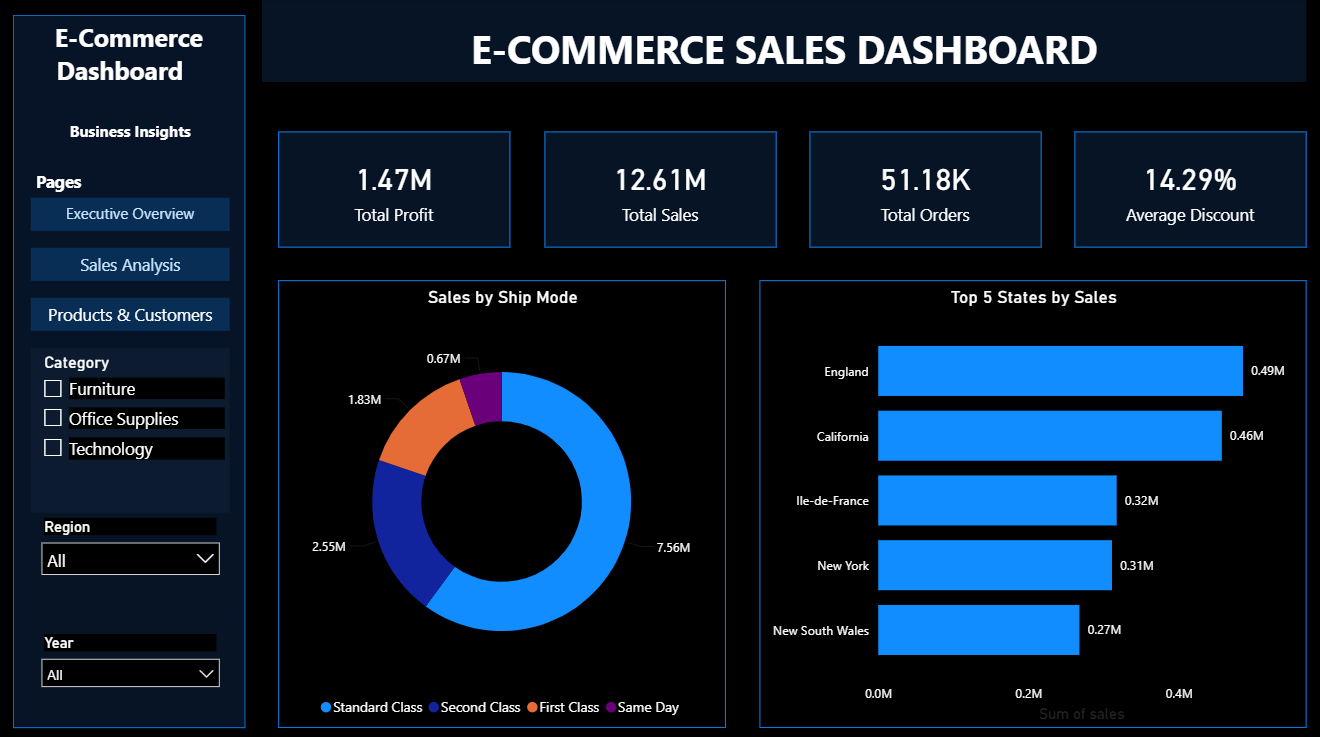

The page's visual inventory and layout, read from the dashboard file:
{"tool":"powerbi","page":{"name":"Executive Overview","canvas":[1280,720],"ordinal":0},"visuals":[{"type":"card","title":"Total Sales","fields":{"Values":["Sum(sales_data.sales)"]},"box":[528,128,224,112],"z":0},{"type":"card","title":"Total Profit","fields":{"Values":["Sum(sales_data.profit)"]},"box":[272,128,224,112],"z":1000},{"type":"card","title":"Total Orders","fields":{"Values":["CountNonNull(sales_data.order_id)"]},"box":[784,128,224,112],"z":2000},{"type":"card","title":"Average Discount","fields":{"Values":["Avg(sales_data.discount)"]},"box":[1040,128,224,112],"z":3000},{"type":"actionButton","box":[20,20,100,40],"z":4000},{"type":"shape","box":[16,16,224,688],"z":5000},{"type":"textbox","box":[32,16,192,96],"z":6000},{"type":"textbox","box":[32,112,192,32],"z":7000},{"type":"textbox","box":[32,160,192,32],"z":8000},{"type":"textbox","box":[32,192,192,32],"z":9000},{"type":"textbox","box":[32,240,192,32],"z":10000},{"type":"textbox","box":[32,288,192,32],"z":11000},{"type":"slicer","title":"Category","fields":{"Values":["sales_data.category"]},"box":[32,336,192,160],"z":12000},{"type":"textbox","box":[256,0,1008,80],"z":13000},{"type":"slicer","title":"Region","fields":{"Values":["sales_data.region"]},"box":[32,496,192,96],"z":14000},{"type":"slicer","title":"Year","fields":{"Values":["sales_data.year"]},"box":[32,608,192,80],"z":15000},{"type":"actionButton","box":[32,192,192,32],"z":16000},{"type":"actionButton","box":[32,240,192,32],"z":17000},{"type":"actionButton","box":[32,240,192,32],"z":18000},{"type":"donutChart","fields":{"Category":["sales_data.ship_mode"],"Y":["Sum(sales_data.sales)"]},"box":[272,272,432,432],"z":19000},{"type":"clusteredBarChart","title":"Top 5 States by Sales","fields":{"Category":["sales_data.state"],"Y":["Sum(sales_data.sales)"]},"box":[736,272,528,432],"z":20000}]}

Visuals, with their boxes in screenshot pixels (x1, y1, x2, y2), scaled from the page's 1280x720 canvas onto the 1320x737 screenshot:
"Total Sales" card: 544 131 776 246
"Total Profit" card: 280 131 512 246
"Total Orders" card: 808 131 1040 246
"Average Discount" card: 1072 131 1304 246
actionButton: 21 20 124 61
shape: 16 16 248 721
textbox: 33 16 231 115
textbox: 33 115 231 147
textbox: 33 164 231 197
textbox: 33 197 231 229
textbox: 33 246 231 278
textbox: 33 295 231 328
"Category" slicer: 33 344 231 508
textbox: 264 0 1304 82
"Region" slicer: 33 508 231 606
"Year" slicer: 33 622 231 704
actionButton: 33 197 231 229
actionButton: 33 246 231 278
actionButton: 33 246 231 278
donutChart - sales_data.ship_mode x Sum(sales_data.sales): 280 278 726 721
"Top 5 States by Sales" clusteredBarChart: 759 278 1304 721
